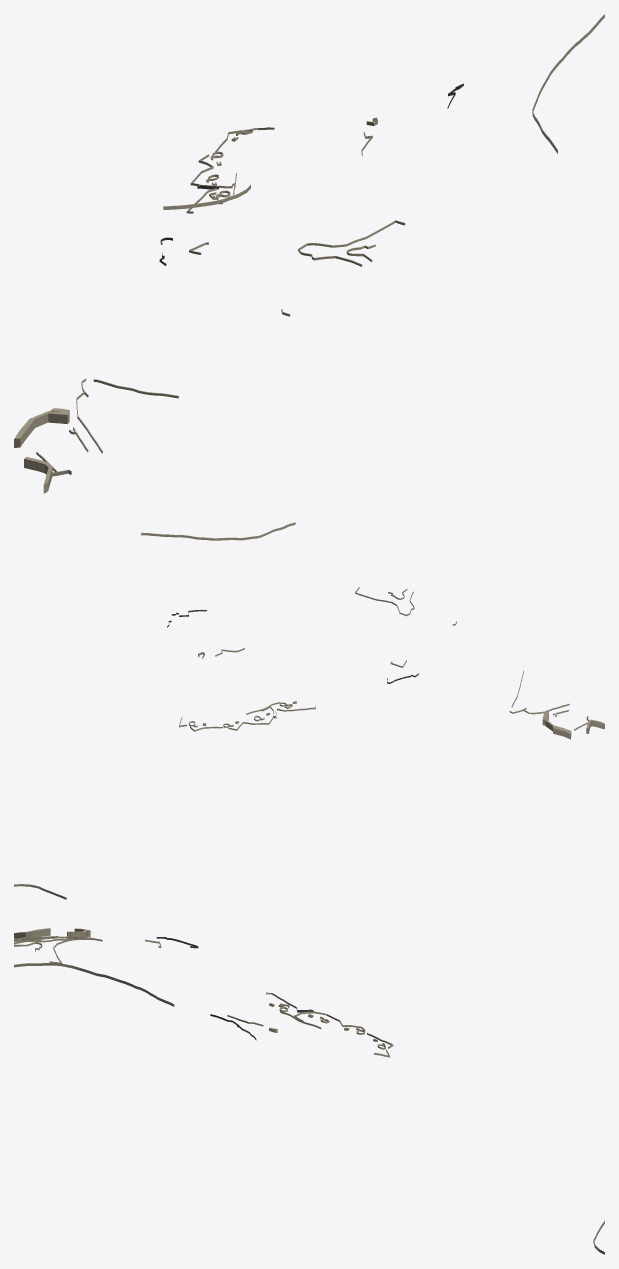
Rendered from walls.glb.
The picture shows the model from 3 angles, top to bottom: view 1: azimuth 30°, elevation 25°; view 2: azimuth 150°, elevation 25°; view 3: azimuth 270°, elevation 25°; orthographic projection. The views are drawn at different scales.
Visible parts, largest first — view 1: T_E0_N3_walls; view 2: T_E0_N3_walls; view 3: T_E0_N3_walls.
Part boxes in pixels (x1,y1,x2,y2): T_E0_N3_walls: (14, 14, 604, 493); T_E0_N3_walls: (14, 522, 604, 899); T_E0_N3_walls: (14, 928, 604, 1254).
Bounding box in the file's own units: 496 × 260 × 500.
